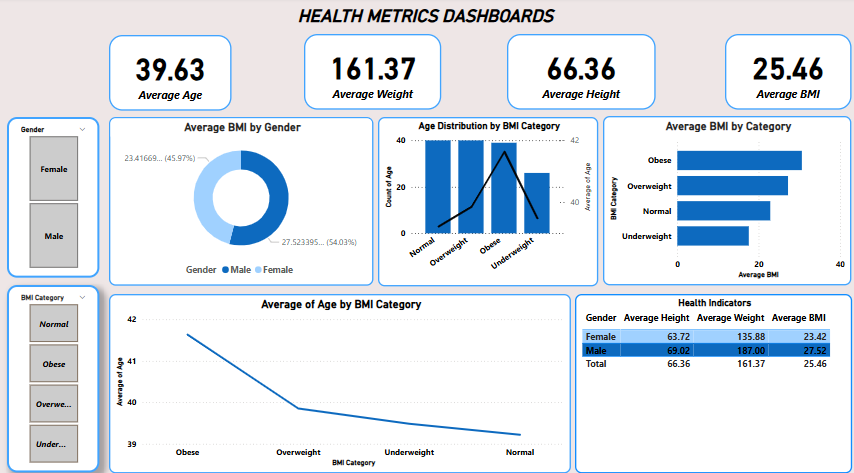

This screenshot's page, from the dashboard's own definition file:
{"tool":"powerbi","page":{"name":"Dashboard","canvas":[1280,720],"ordinal":0},"visuals":[{"type":"card","fields":{"Values":["weight-HEIGHT-BMI.Average Age"]},"box":[162.2,56.9,182.9,113],"z":0},{"type":"card","fields":{"Values":["weight-HEIGHT-BMI.Average BMI"]},"box":[1083.2,55.9,189.1,113.4],"z":1000},{"type":"card","fields":{"Values":["weight-HEIGHT-BMI.Average Height"]},"box":[757,55.9,222.1,113.4],"z":2000},{"type":"card","fields":{"Values":["weight-HEIGHT-BMI.Average Weight"]},"box":[454.5,55.9,204.8,113.4],"z":3000},{"type":"textbox","title":"HEALTH METRICS DASHBOARDS","box":[162.2,11.2,945.3,29.3],"z":4000},{"type":"slicer","fields":{"Values":["weight-HEIGHT-BMI.Gender"]},"box":[10.2,178.8,137.9,240.3],"z":5000},{"type":"slicer","fields":{"Values":["weight-HEIGHT-BMI.BMI Category"]},"box":[10.2,430.9,137.9,280.4],"z":6000},{"type":"donutChart","fields":{"Category":["weight-HEIGHT-BMI.Gender"],"Y":["weight-HEIGHT-BMI.Average BMI"]},"box":[162.3,178.8,394.7,252.1],"z":7000},{"type":"lineChart","fields":{"Category":["weight-HEIGHT-BMI.BMI Category"],"Y":["Avg(weight-HEIGHT-BMI.Age)"]},"box":[162.3,443.5,690.1,267.8],"z":8000},{"type":"lineClusteredColumnComboChart","title":"Age Distribution by BMI Category","fields":{"Y":["Count(weight-HEIGHT-BMI.Age)"],"Category":["weight-HEIGHT-BMI.BMI Category"],"Y2":["Avg(weight-HEIGHT-BMI.Age)"]},"box":[564.1,178.5,328.6,252.7],"z":9000},{"type":"tableEx","title":"Health Indicators","fields":{"Values":["weight-HEIGHT-BMI.Gender","weight-HEIGHT-BMI.Average Height","weight-HEIGHT-BMI.Average Weight","weight-HEIGHT-BMI.Average BMI"]},"box":[858.6,443.5,413.6,267.8],"z":10000},{"type":"clusteredBarChart","title":"Average BMI by Category","fields":{"Category":["weight-HEIGHT-BMI.BMI Category"],"Y":["weight-HEIGHT-BMI.Average BMI"]},"box":[901.2,178,371,252.9],"z":11000}]}

Visuals, with their boxes in screenshot pixels (x1, y1, x2, y2), scaled from the page's 1280x720 canvas onto the 854x473 screenshot:
card - weight-HEIGHT-BMI.Average Age: locate(108, 37, 230, 112)
card - weight-HEIGHT-BMI.Average BMI: locate(723, 37, 849, 111)
card - weight-HEIGHT-BMI.Average Height: locate(505, 37, 653, 111)
card - weight-HEIGHT-BMI.Average Weight: locate(303, 37, 440, 111)
"HEALTH METRICS DASHBOARDS" textbox: locate(108, 7, 739, 27)
slicer - weight-HEIGHT-BMI.Gender: locate(7, 117, 99, 275)
slicer - weight-HEIGHT-BMI.BMI Category: locate(7, 283, 99, 467)
donutChart - weight-HEIGHT-BMI.Gender x weight-HEIGHT-BMI.Average BMI: locate(108, 117, 372, 283)
lineChart - weight-HEIGHT-BMI.BMI Category x Avg(weight-HEIGHT-BMI.Age): locate(108, 291, 569, 467)
"Age Distribution by BMI Category" lineClusteredColumnComboChart: locate(376, 117, 596, 283)
"Health Indicators" tableEx: locate(573, 291, 849, 467)
"Average BMI by Category" clusteredBarChart: locate(601, 117, 849, 283)
